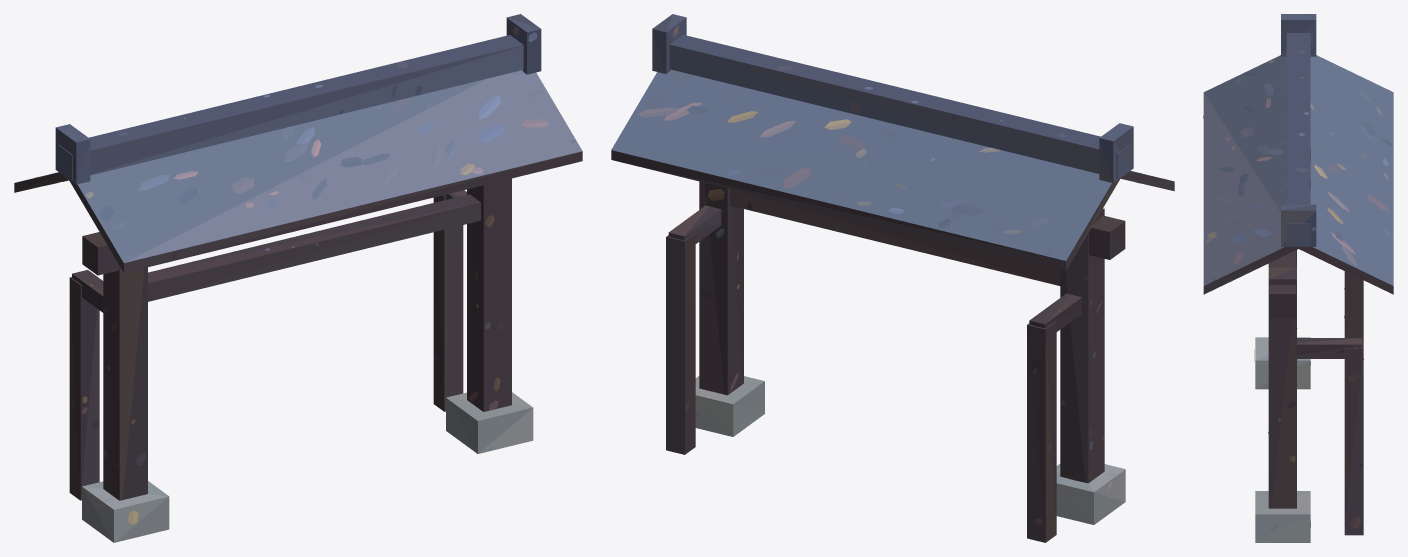
The model's file is HK_Gate.glb.
The picture shows the model from 3 angles, left to right: view 1: azimuth 30°, elevation 25°; view 2: azimuth 150°, elevation 25°; view 3: azimuth 270°, elevation 25°; orthographic projection. The views are drawn at different scales.
Parts seen in each view (by area): view 1: HK_Gate; view 2: HK_Gate; view 3: HK_Gate.
Part boxes in pixels (x1,y1,x2,y2): HK_Gate: (14, 14, 582, 542); HK_Gate: (611, 14, 1174, 542); HK_Gate: (1203, 14, 1393, 542).
Size of the model in its own units: 5.9 by 4.77 by 2.4.
